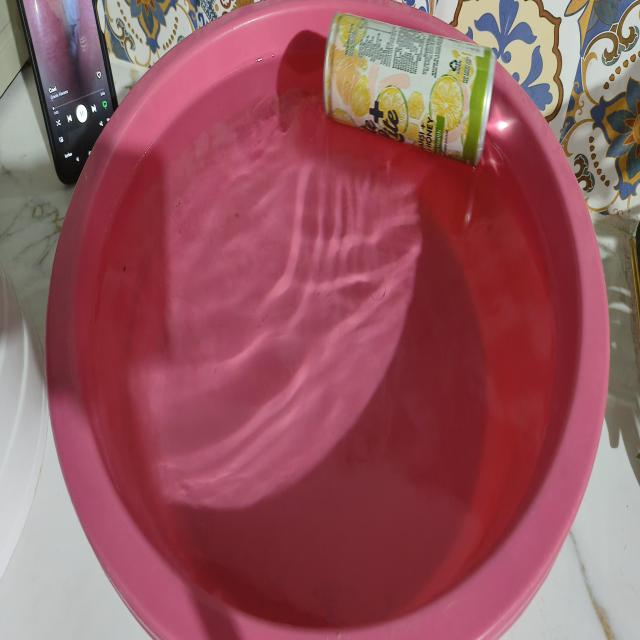Aluminum Can: (324, 13, 496, 166)
